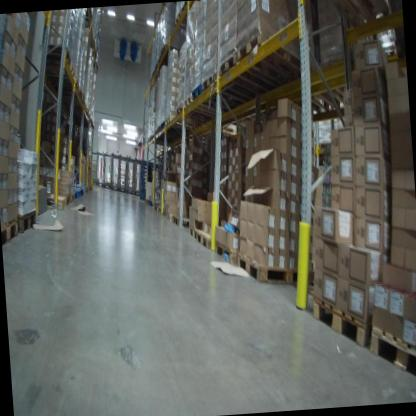pallet: (233, 31, 308, 93), (308, 294, 372, 358), (365, 314, 416, 389), (233, 247, 307, 289), (216, 48, 271, 104), (201, 70, 256, 108), (312, 70, 356, 116), (191, 80, 238, 115), (173, 99, 215, 131), (183, 89, 221, 121), (41, 40, 72, 67), (212, 239, 240, 268), (43, 56, 76, 80), (1, 210, 23, 246), (18, 205, 41, 238), (377, 46, 402, 65), (172, 212, 196, 231), (173, 10, 190, 35), (46, 191, 68, 210), (187, 221, 202, 245), (197, 230, 214, 250), (64, 193, 72, 212), (165, 210, 175, 223), (69, 192, 75, 202)
